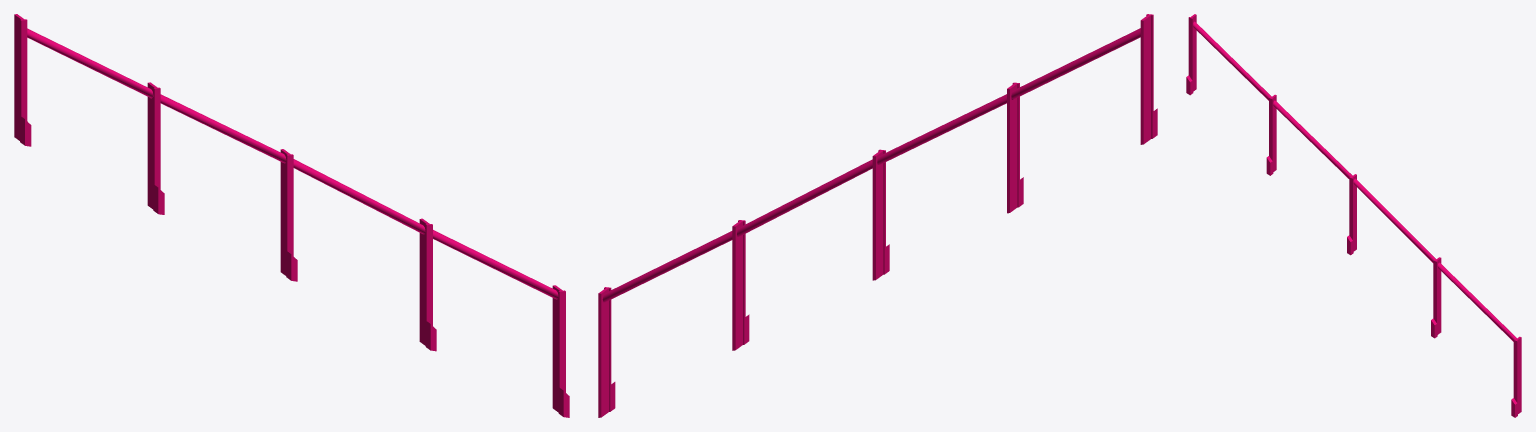
Rendered from Metal_Stairs_04B_Rail.fbx.
The picture shows the model from 3 angles, left to right: view 1: azimuth 30°, elevation 25°; view 2: azimuth 150°, elevation 25°; view 3: azimuth 330°, elevation 25°; orthographic projection. The views are drawn at different scales.
Visible parts, largest first — view 1: Metal_Stairs_04B_Rail; view 2: Metal_Stairs_04B_Rail; view 3: Metal_Stairs_04B_Rail.
Part boxes in pixels (x1,y1,x2,y2): Metal_Stairs_04B_Rail: [14, 14, 569, 417]; Metal_Stairs_04B_Rail: [598, 14, 1157, 417]; Metal_Stairs_04B_Rail: [1186, 14, 1521, 417].
Size of the model in its own units: 423 by 391 by 16.95.
